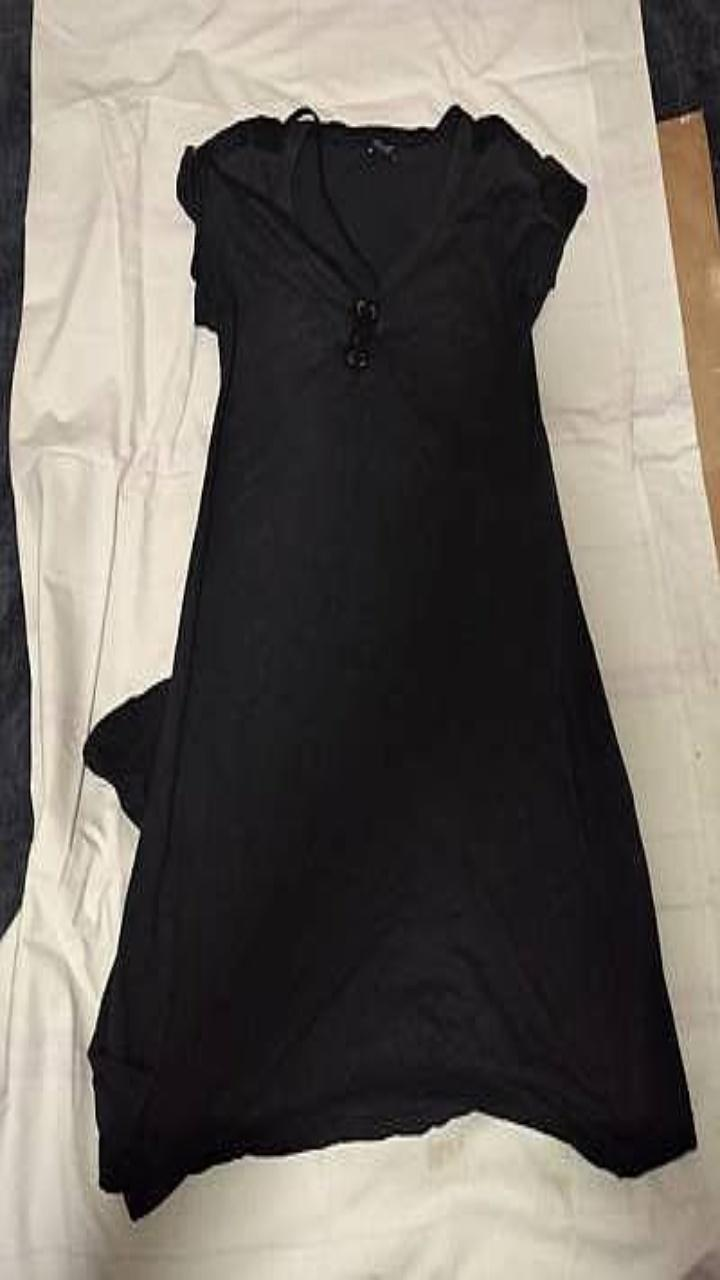Dresses: (84, 104, 695, 1217)
